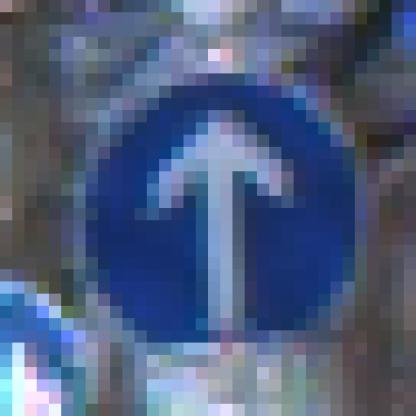AheadOnly: (74, 62, 356, 356)
